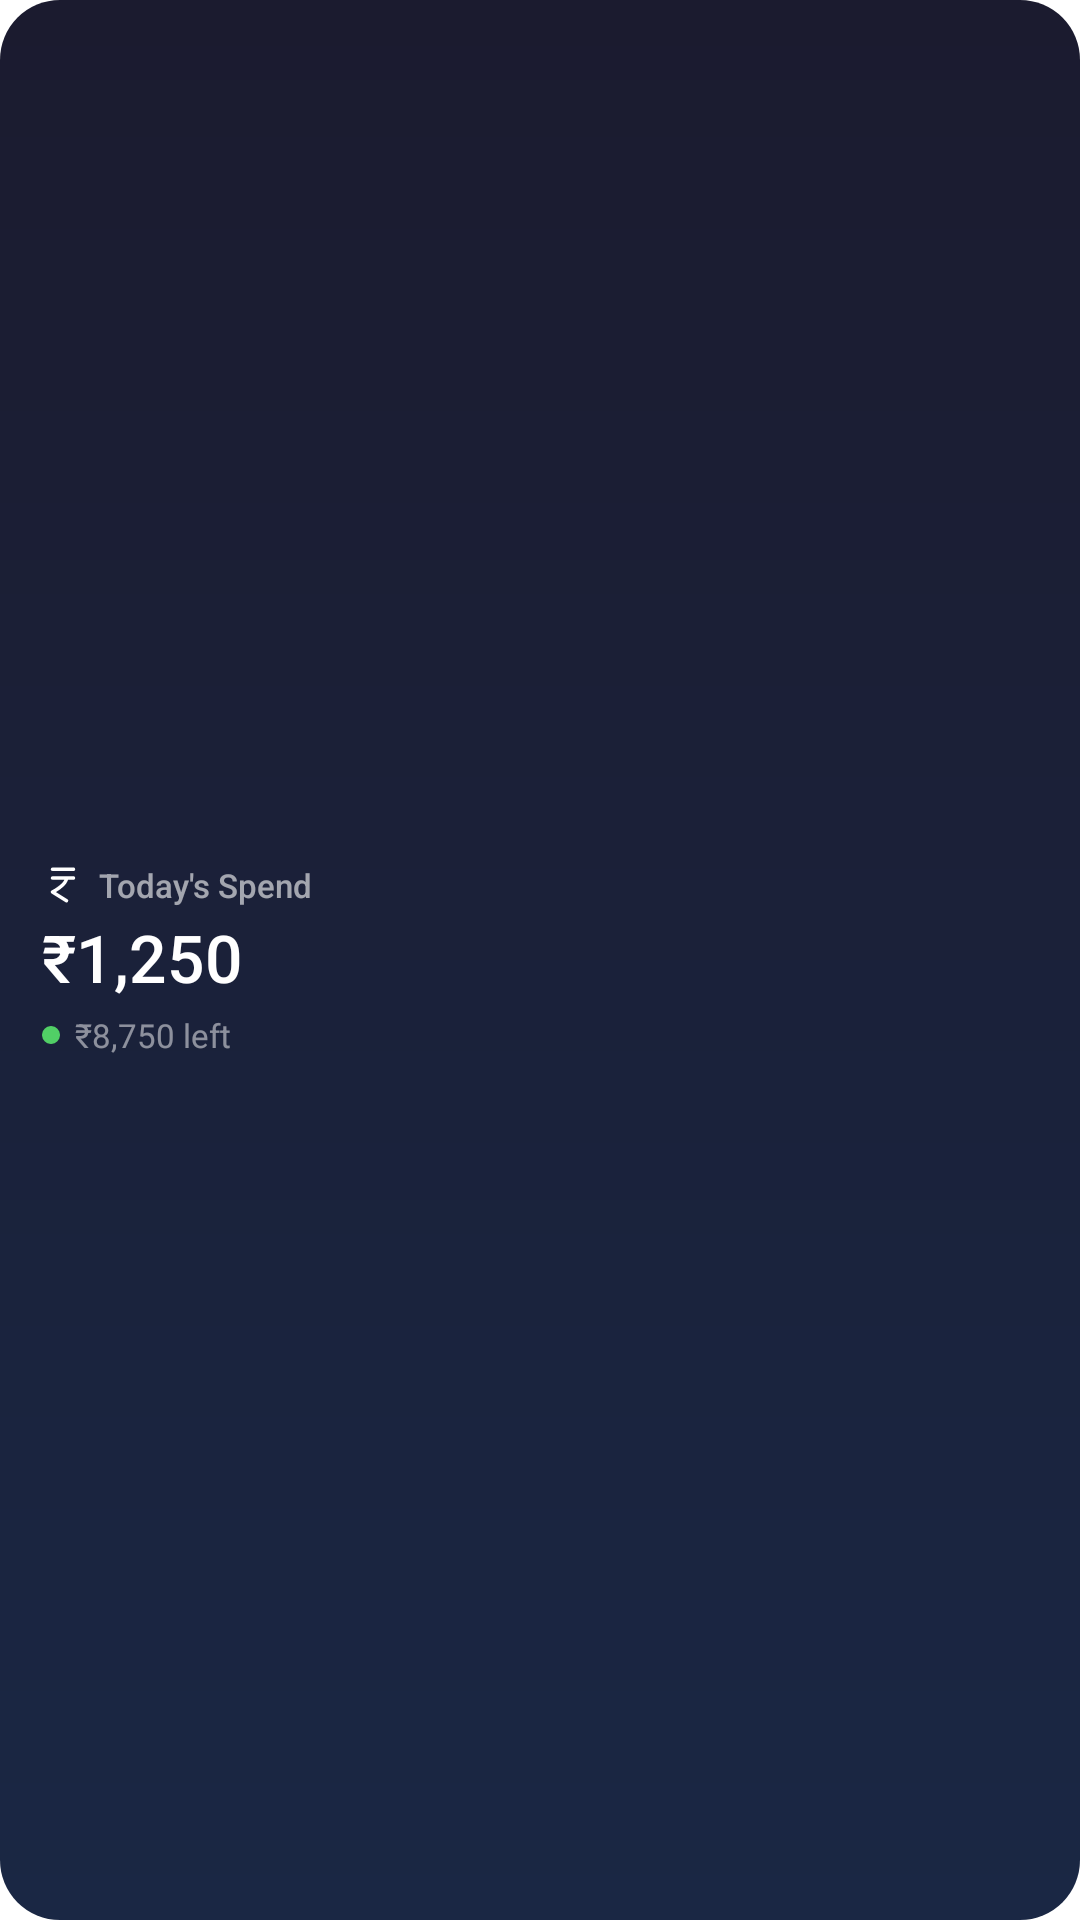

Icon bounding boxes for this 1080*1920 phone screenshot, format (x1, y1, x2, y2):
Mudra: (50, 867, 76, 903)
